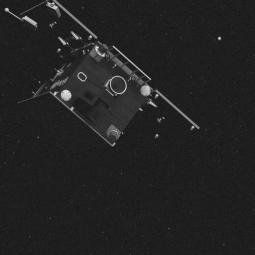proba_2: (7, 4, 206, 156)
